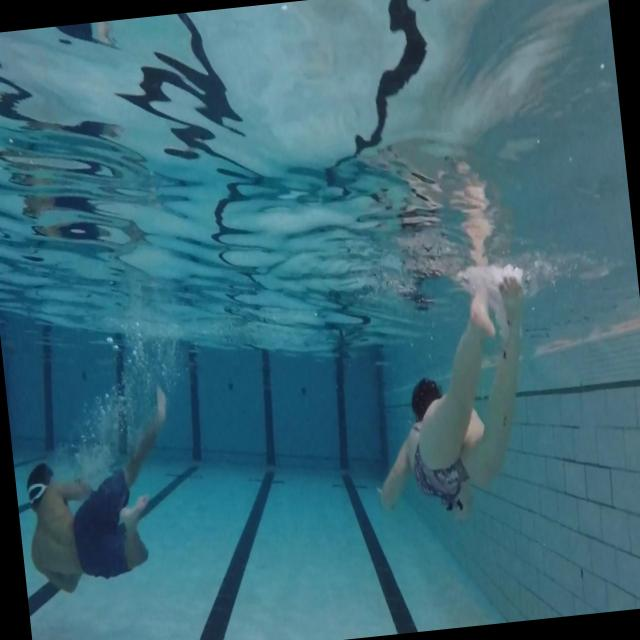human: (356, 269, 546, 522), (14, 382, 186, 597)
